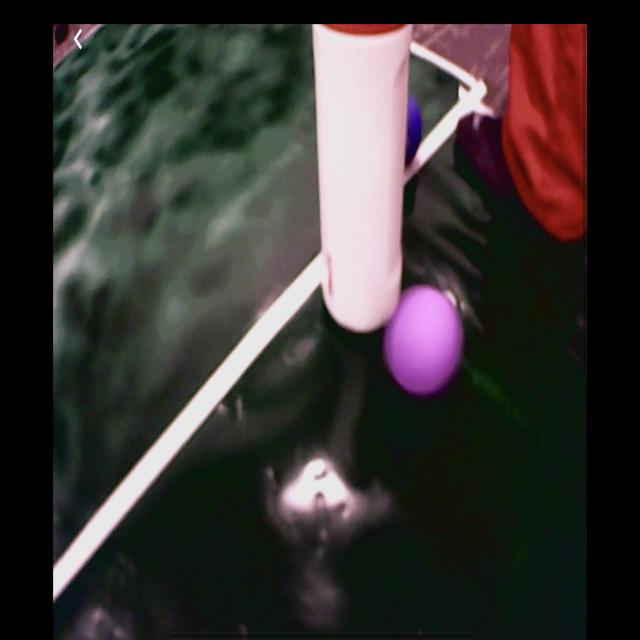ball: (386, 286, 464, 397), (406, 96, 425, 170)
